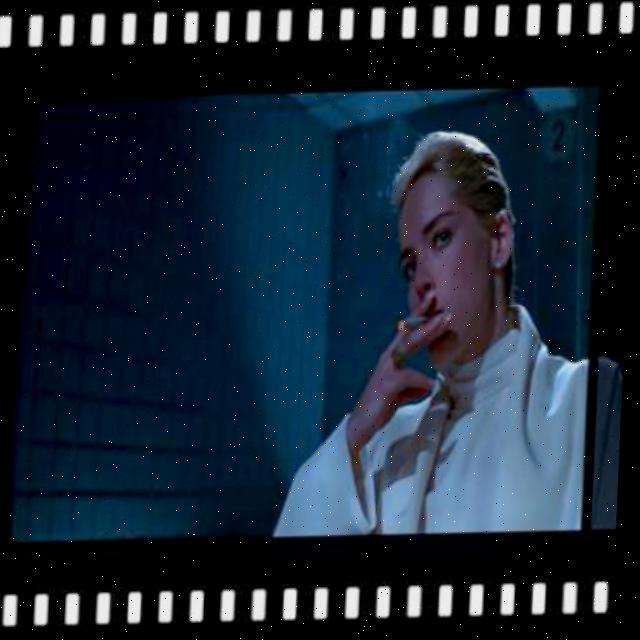cigarette: (399, 317, 442, 334)
